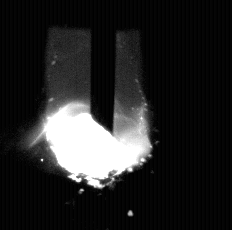arame: (91, 0, 116, 136)
poca: (47, 0, 149, 230)
